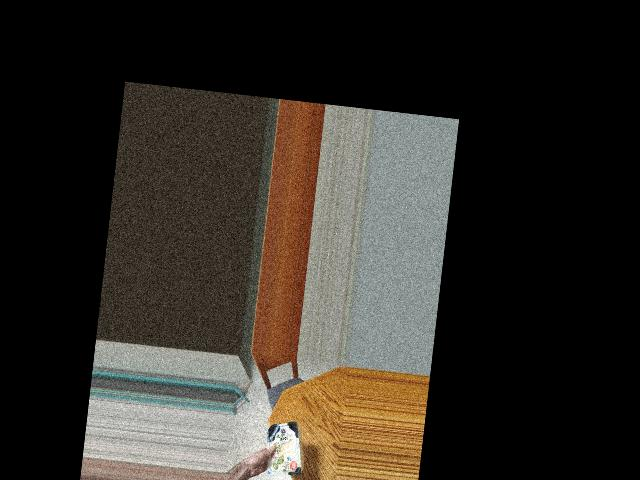cheese: (261, 419, 307, 477)
